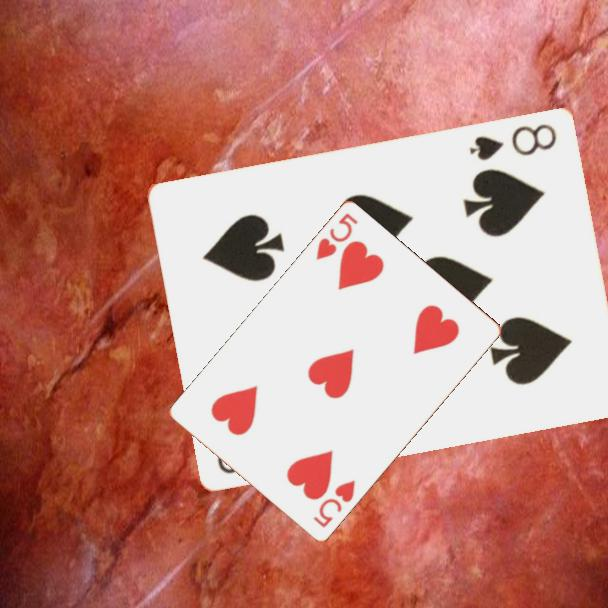h05: (312, 210, 361, 263), (310, 477, 358, 531)
s08: (466, 120, 560, 163)
